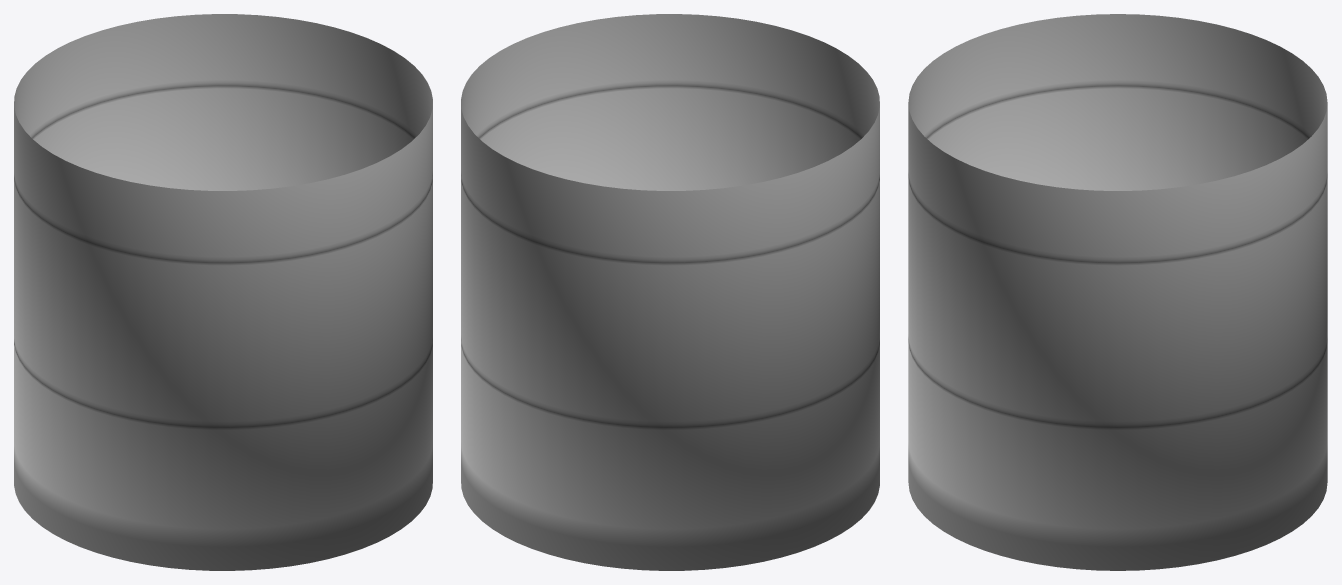
File: labo3.obj
3 views of the same model, side by side, from view 1: azimuth 30°, elevation 25°; view 2: azimuth 150°, elevation 25°; view 3: azimuth 270°, elevation 25° (orthographic).
Visible parts, largest first — view 1: ColobotMesh_1_ColobotMesh_; view 2: ColobotMesh_1_ColobotMesh_; view 3: ColobotMesh_1_ColobotMesh_.
Part boxes in pixels (box(x1,y1,x2,y2)): ColobotMesh_1_ColobotMesh_: box(14, 14, 432, 570); ColobotMesh_1_ColobotMesh_: box(461, 14, 879, 570); ColobotMesh_1_ColobotMesh_: box(908, 14, 1327, 570).
Bounding box in the file's own units: 2 × 2 × 2.
